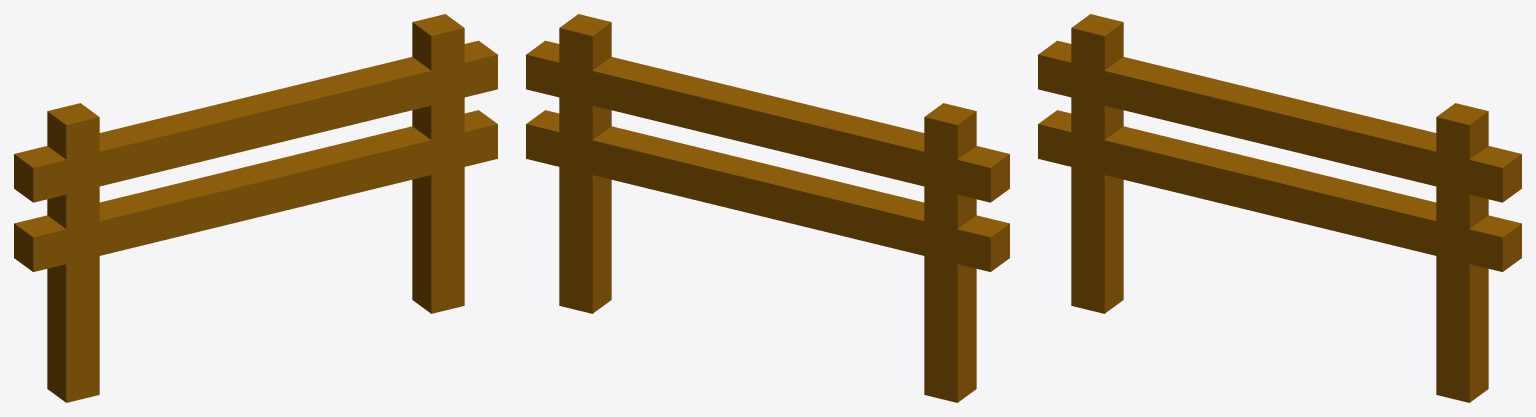
File: fense.obj
The picture shows the model from 3 angles, left to right: view 1: azimuth 30°, elevation 25°; view 2: azimuth 150°, elevation 25°; view 3: azimuth 330°, elevation 25°; orthographic projection.
Bounding box in the file's own units: 1.4 × 0.8 × 0.1.
1 material, 1 textured.
